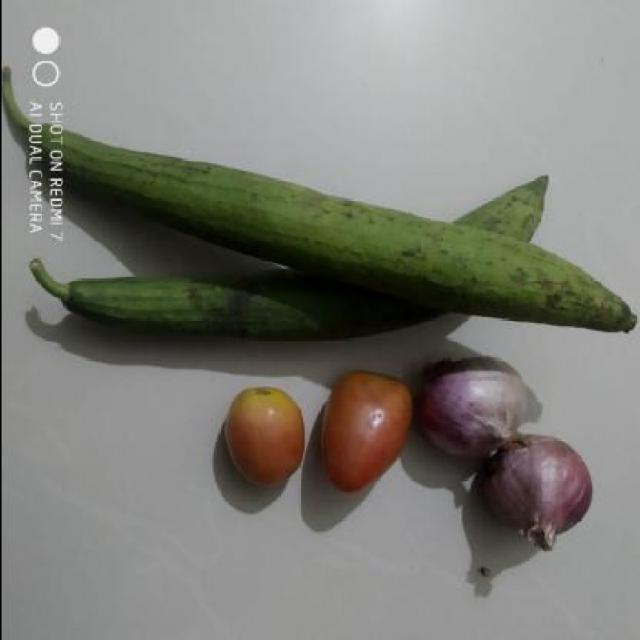Onion: (486, 440, 594, 565), (424, 360, 528, 454)
Sponge Gourd: (3, 66, 634, 334)
Tomato: (311, 375, 418, 497), (217, 376, 306, 498)
